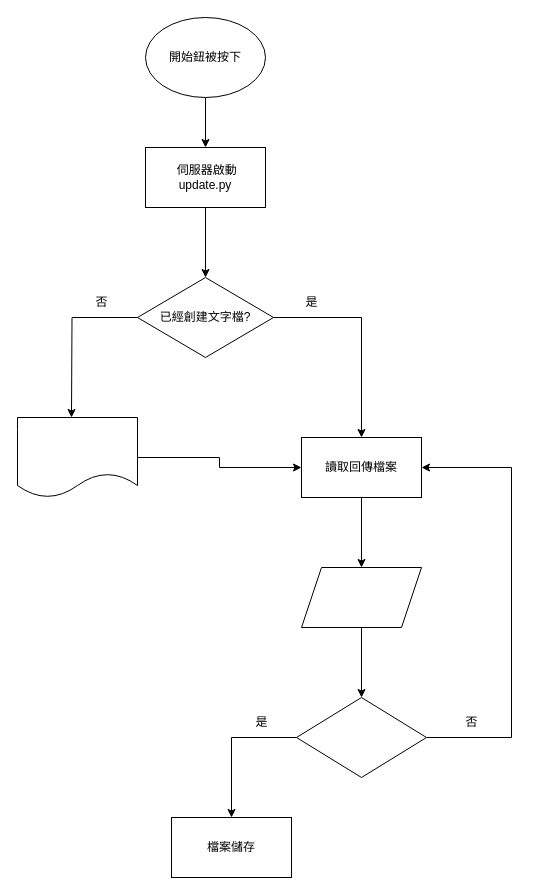
Some shapes in this 537 by 895 pixel diagram are drawn without their labels. The centre of each missing label's shape, as x and y in pixels:
"創建新的空白文字檔" goes at (77,457).
"檔案寫入" goes at (361,597).
"開始鈕再次被按下?" goes at (361,737).
